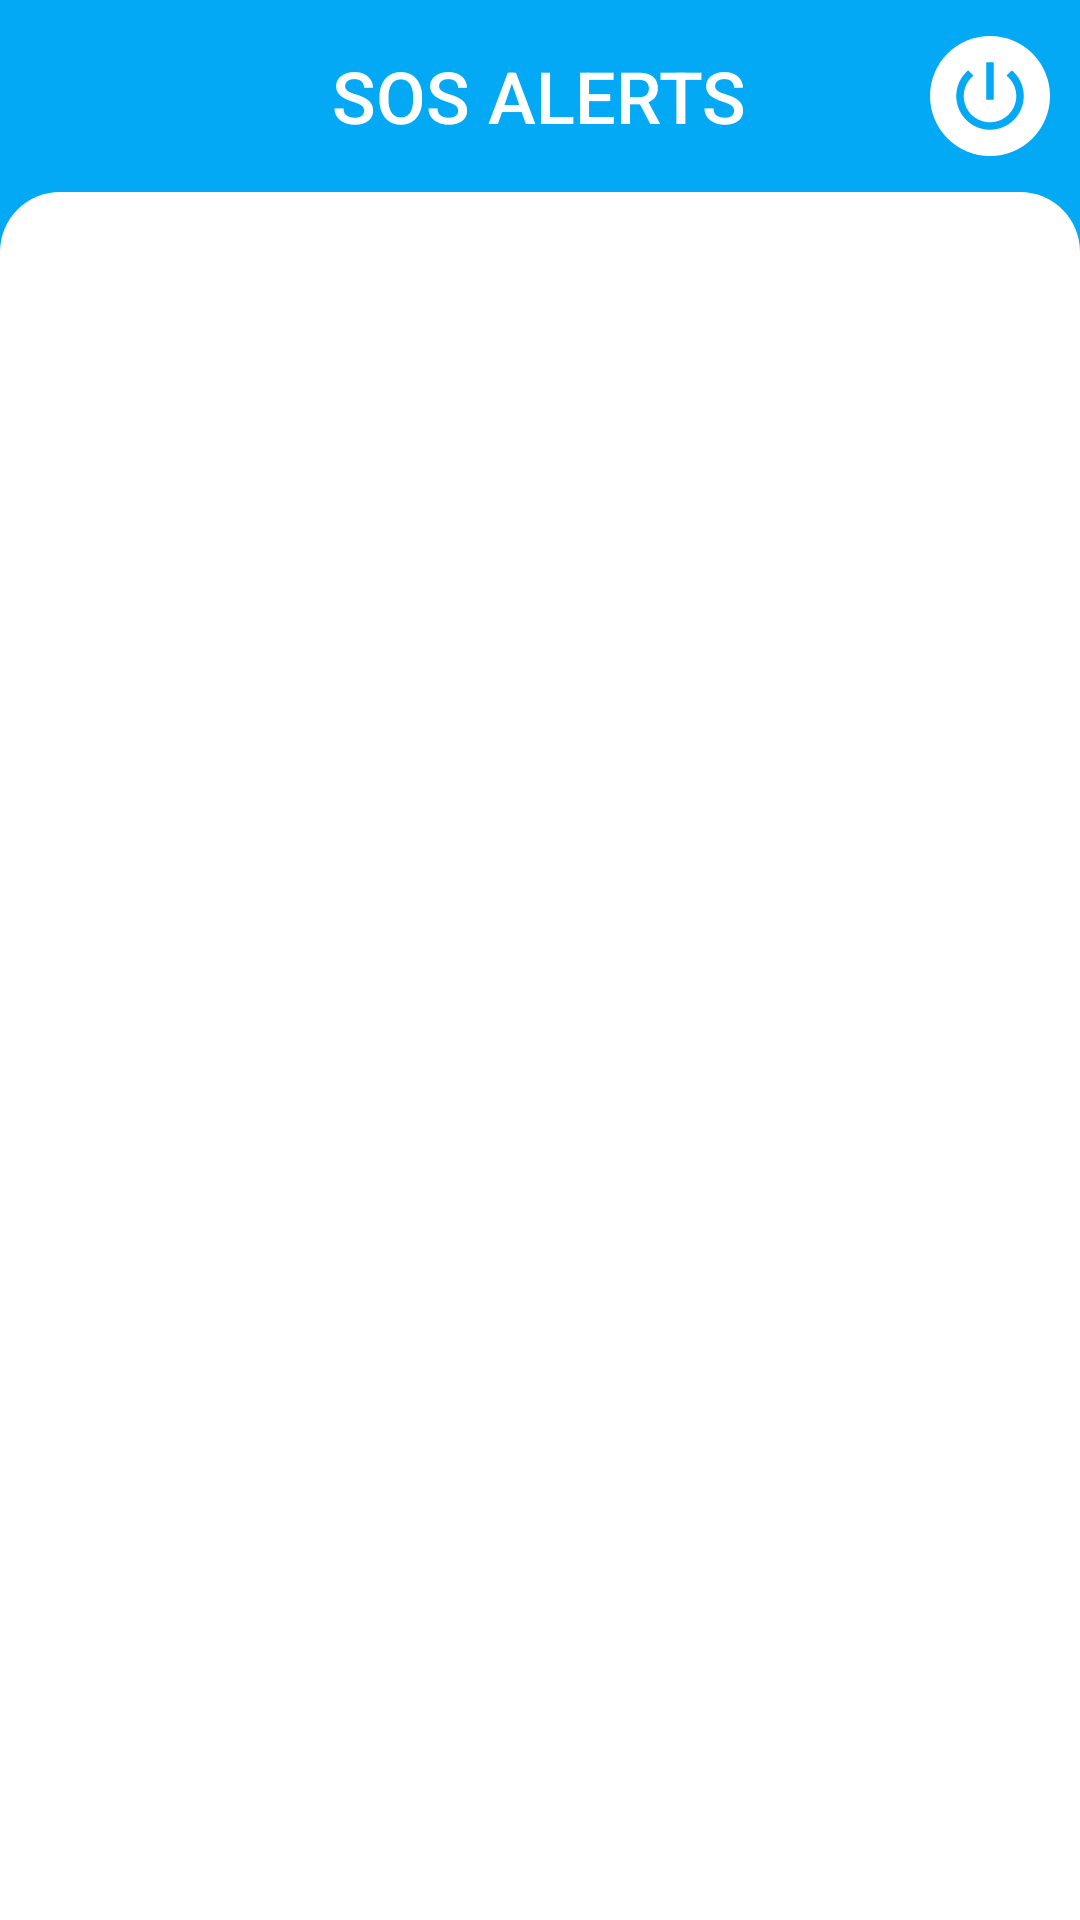

Icons on this 1080×1920 Android screen, each with its box as (x1, y1, x2, y2):
power: (930, 36, 1050, 156)
